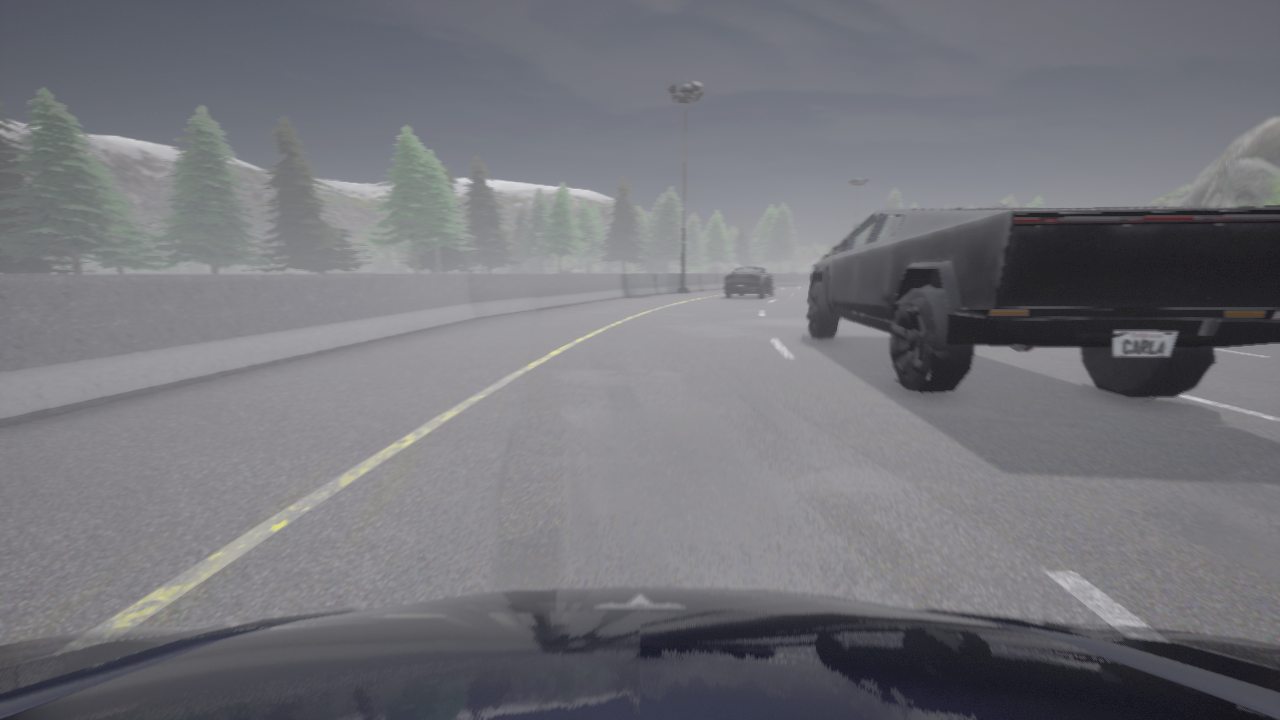cyclist: (0, 588, 1279, 719), (805, 207, 1279, 401), (725, 267, 774, 297), (809, 274, 811, 275)
